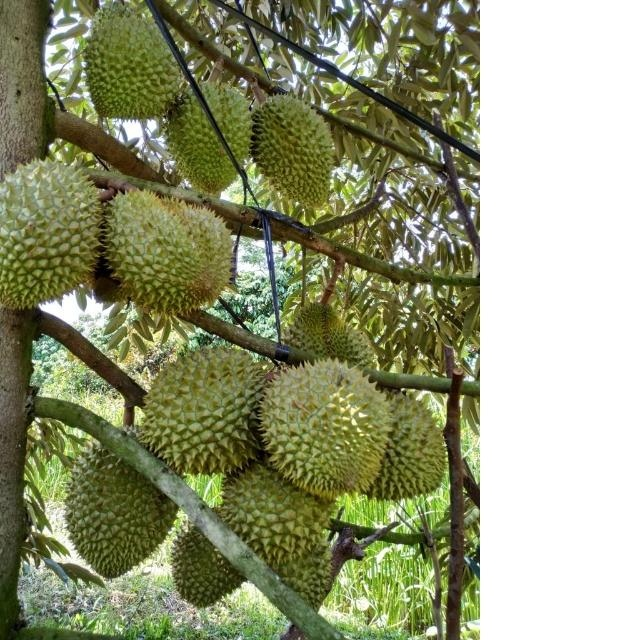sau_rieng: (262, 361, 386, 499), (67, 426, 179, 578), (103, 188, 234, 317), (140, 346, 267, 474), (0, 159, 103, 312), (220, 462, 336, 568), (86, 1, 182, 120), (165, 80, 254, 192), (252, 95, 338, 209), (366, 384, 448, 501), (171, 507, 250, 608), (280, 302, 379, 369), (274, 543, 333, 610)
